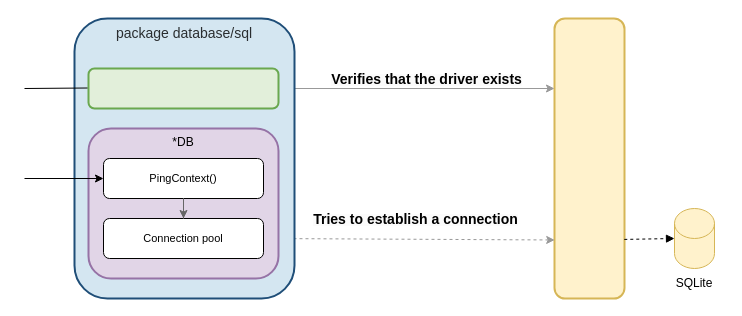
The diagram is 742 pixels wide and 316 high, and some of its shapes have lost their labels. The centre of each missing label's shape, as x and y in pixels:
Open("sqlite", "...") (*DB, error): pixel 183 88
SQLite driver: pixel 589 158
